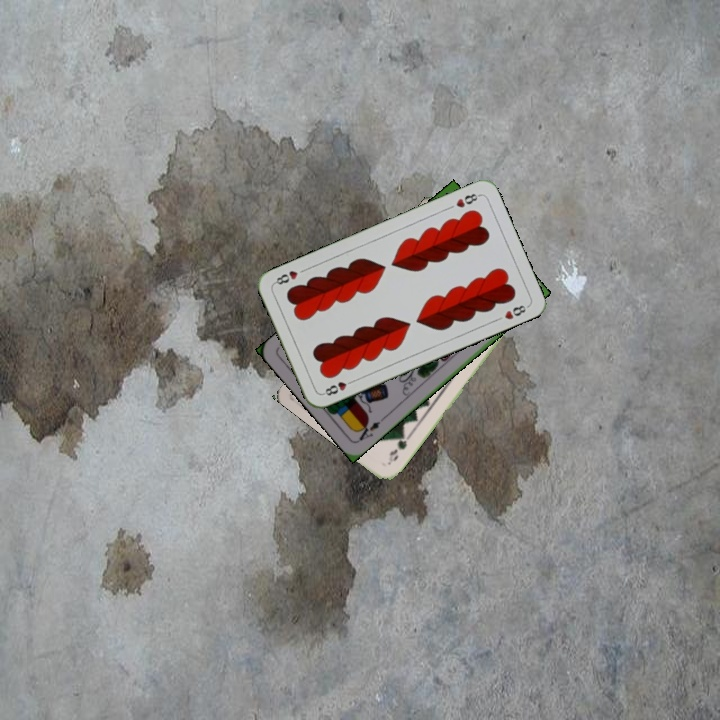EA: (353, 413, 387, 444)
G9: (384, 429, 413, 466)
H8: (319, 375, 357, 398), (452, 189, 483, 210)
